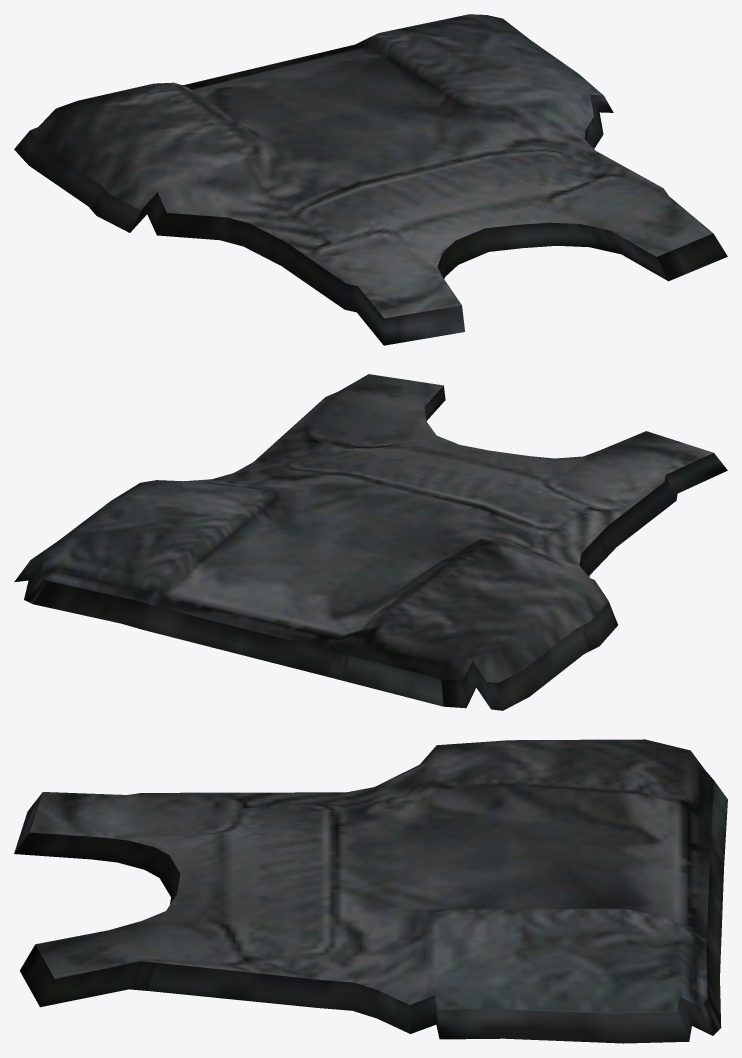
The model's file is Pickup_VestsA.glb.
3 views of the same model, one above another, from view 1: azimuth 30°, elevation 25°; view 2: azimuth 150°, elevation 25°; view 3: azimuth 270°, elevation 25° (orthographic). The views are drawn at different scales.
Parts seen in each view (by area): view 1: pk_vests_a; view 2: pk_vests_a; view 3: pk_vests_a.
Boxes of the visible parts, x1,y1,x2,y2 form: pk_vests_a: (14,14,727,345); pk_vests_a: (14,374,727,710); pk_vests_a: (14,739,727,1043).
Bounding box in the file's own units: 0.7196 × 0.081 × 0.7862.
Materials: 1 (1 with a texture image).
